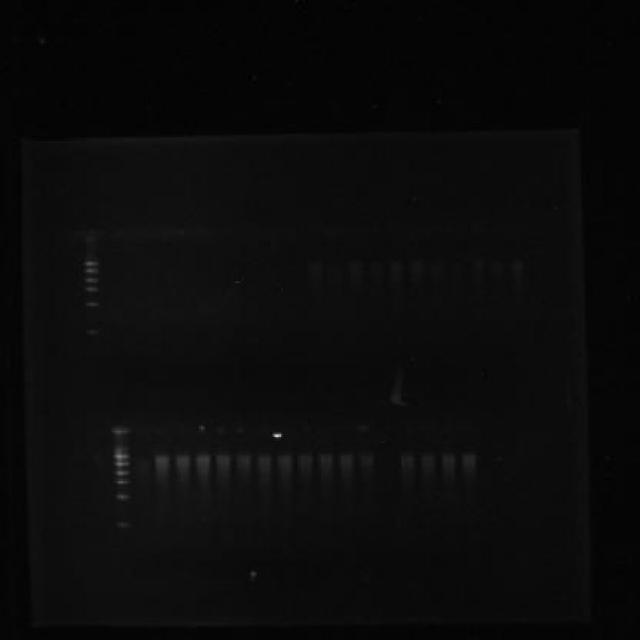L: (72, 223, 531, 246), (102, 418, 480, 444)
M: (74, 250, 106, 341), (106, 445, 137, 533)
P: (112, 520, 132, 528), (111, 460, 131, 468), (113, 493, 132, 501), (112, 478, 131, 486), (112, 469, 131, 477), (112, 453, 130, 459), (84, 261, 100, 267), (86, 301, 100, 307), (85, 286, 98, 292), (85, 277, 98, 283), (85, 268, 98, 274), (85, 330, 98, 335)
Pc: (76, 228, 101, 244), (107, 228, 130, 242), (109, 424, 131, 436), (352, 421, 370, 434), (194, 424, 212, 436), (213, 424, 230, 436), (236, 422, 250, 436)
